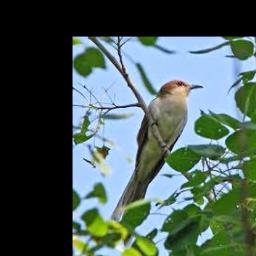Cuckoo: (111, 80, 204, 247)
